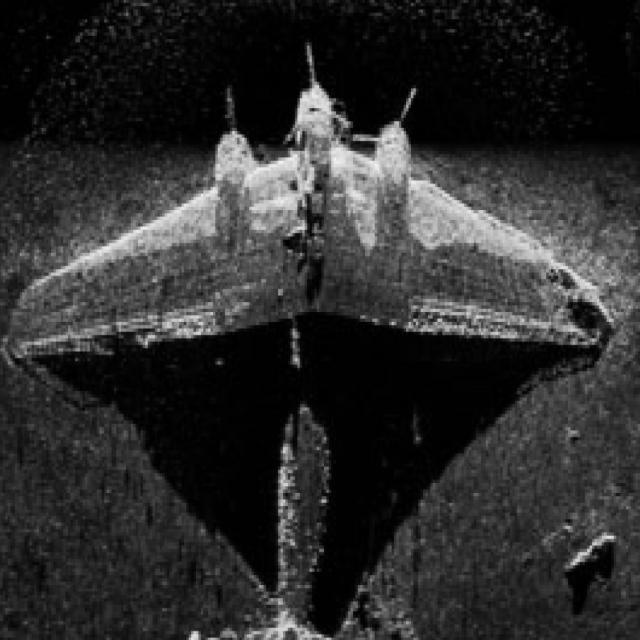plane: (14, 63, 610, 581)
